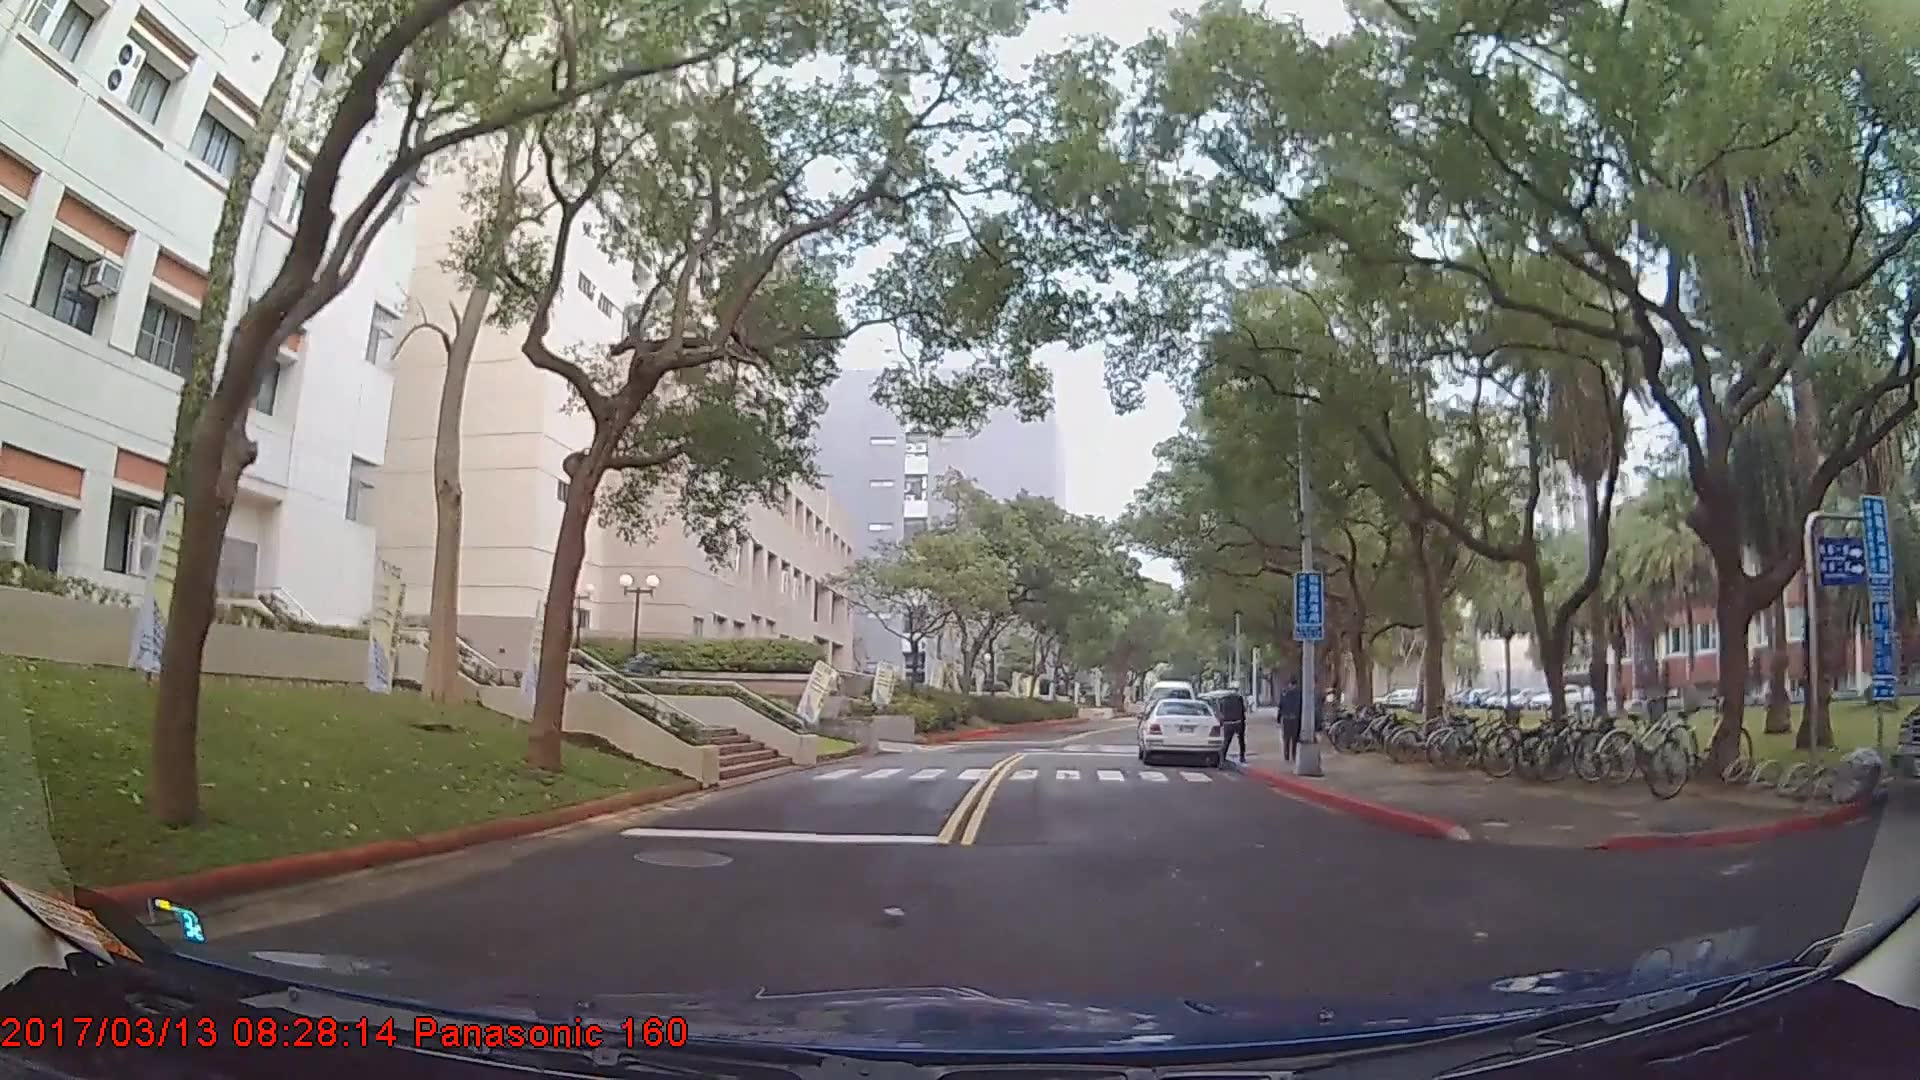pedestrian: (1275, 679, 1312, 766), (1221, 674, 1250, 759)
vehicle: (1135, 697, 1227, 767)
